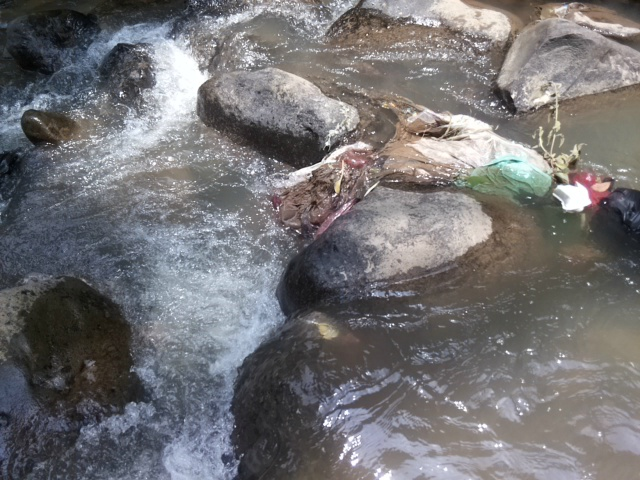Sampah_Plastik: (281, 111, 549, 240), (597, 176, 640, 249)
Sampah_Styrofoam: (550, 181, 593, 213)
